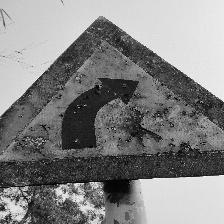Right-turn: (0, 17, 222, 187)
